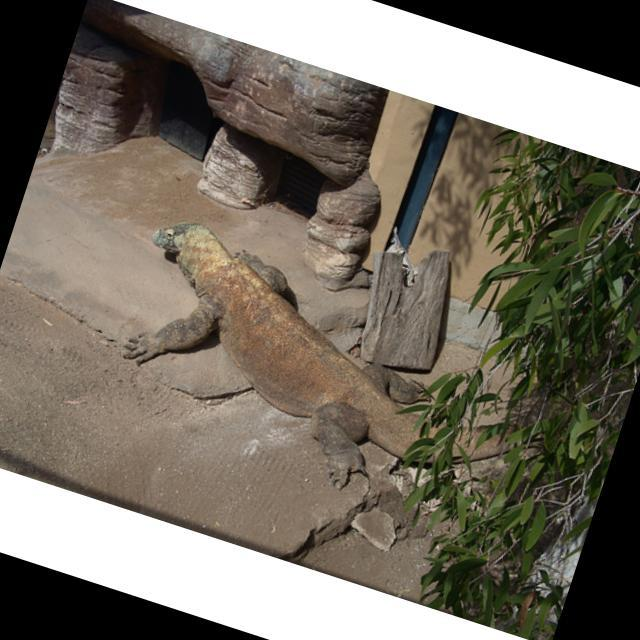KomodoDragon: (95, 209, 593, 551)
